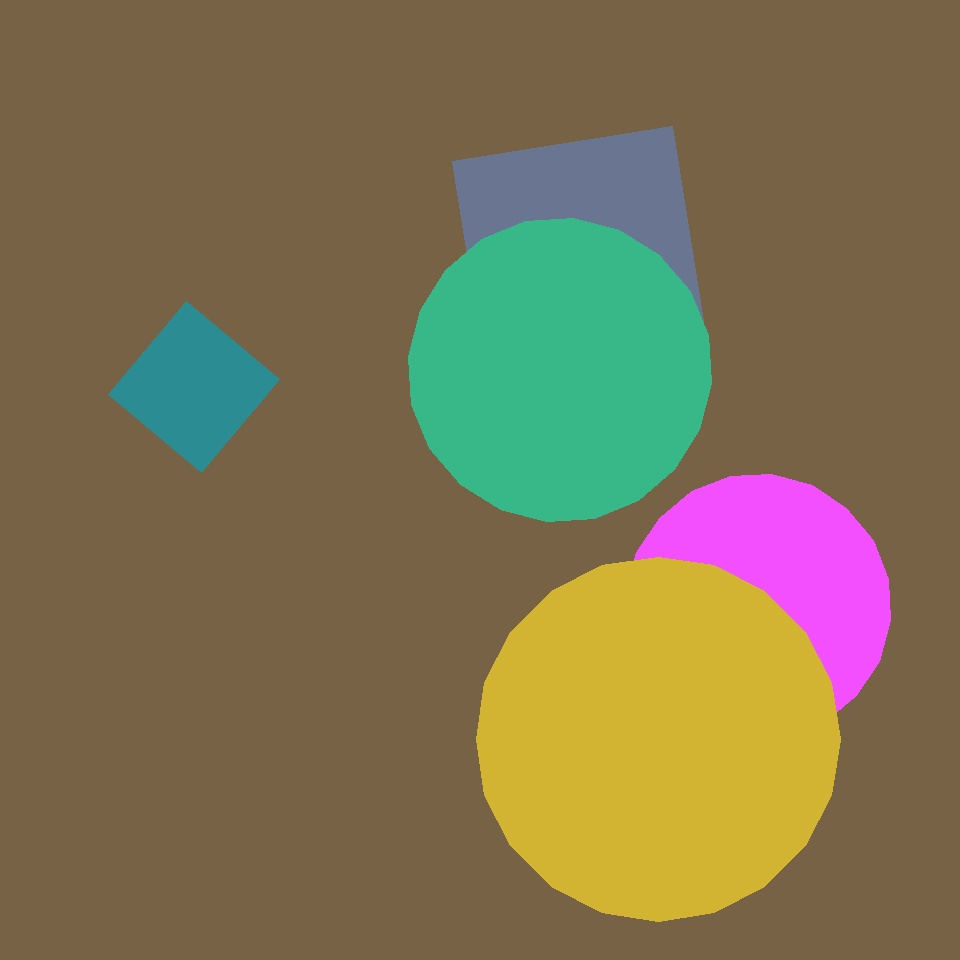circle: (244, 53, 516, 300), (611, 266, 872, 506)
square: (452, 126, 708, 382), (108, 302, 280, 472)
triangle: (476, 557, 840, 921), (408, 219, 712, 522), (625, 474, 890, 740)
